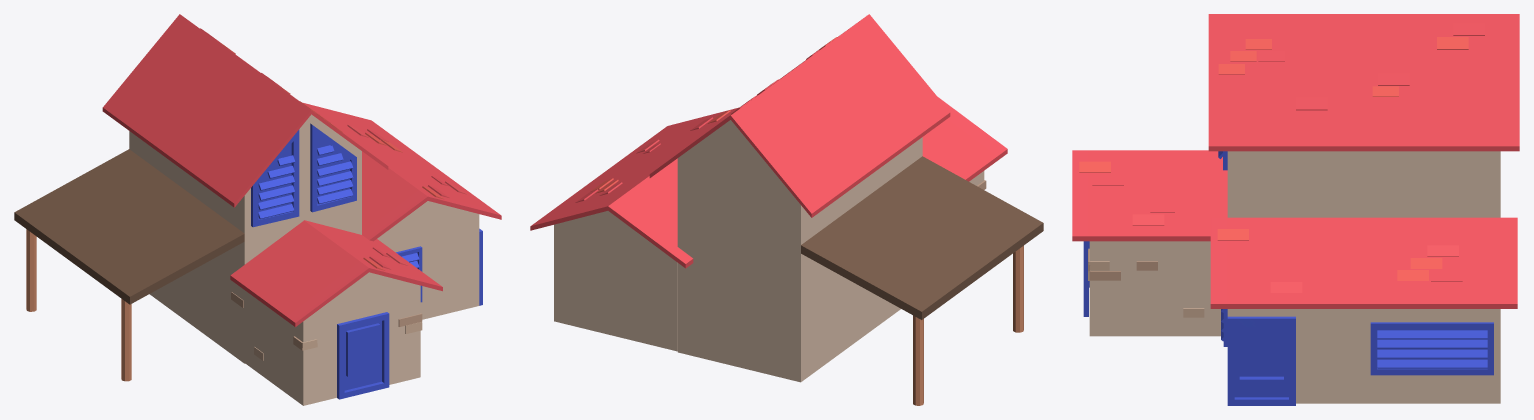
The model's file is house_type_3.obj.
3 views of the same model, side by side, from view 1: azimuth 30°, elevation 25°; view 2: azimuth 150°, elevation 25°; view 3: azimuth 270°, elevation 25° (orthographic). The views are drawn at different scales.
Visible parts, largest first — view 1: house_type_3; view 2: house_type_3; view 3: house_type_3.
Boxes of the visible parts, x1,y1,x2,y2 form: house_type_3: [14, 14, 501, 405]; house_type_3: [530, 14, 1043, 405]; house_type_3: [1072, 14, 1519, 405].
Size of the model in its own units: 6.22 by 4 by 5.6.
